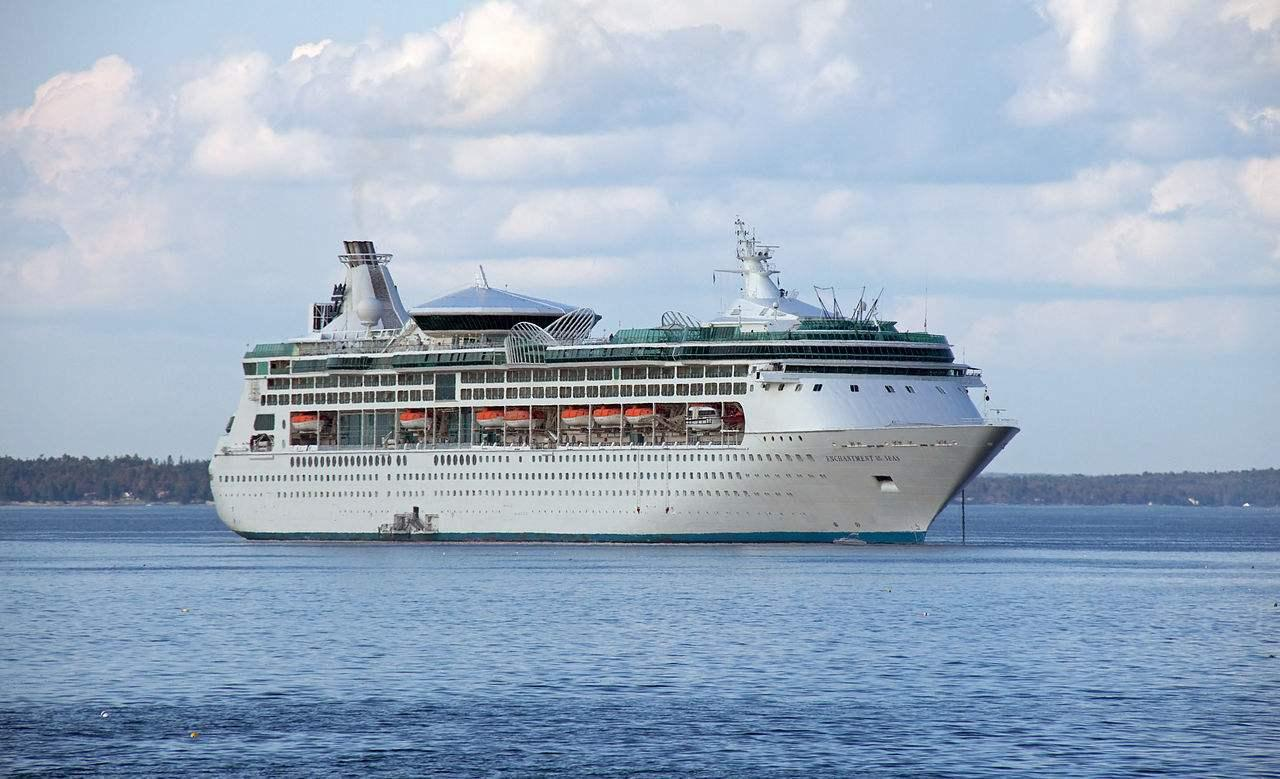youlun: (207, 215, 1023, 542)
